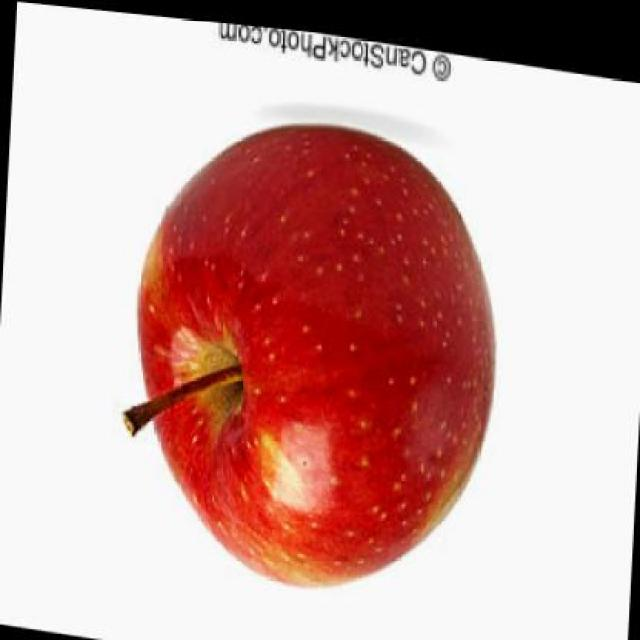Fresh Apple: (134, 124, 486, 582)
